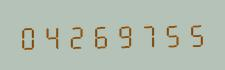five: (185, 18, 208, 48), (161, 19, 184, 48)
four: (41, 21, 64, 50)
nine: (113, 19, 136, 49)
seven: (137, 19, 160, 49)
six: (89, 20, 112, 50)
two: (65, 20, 88, 50)
zero: (17, 21, 40, 51)
